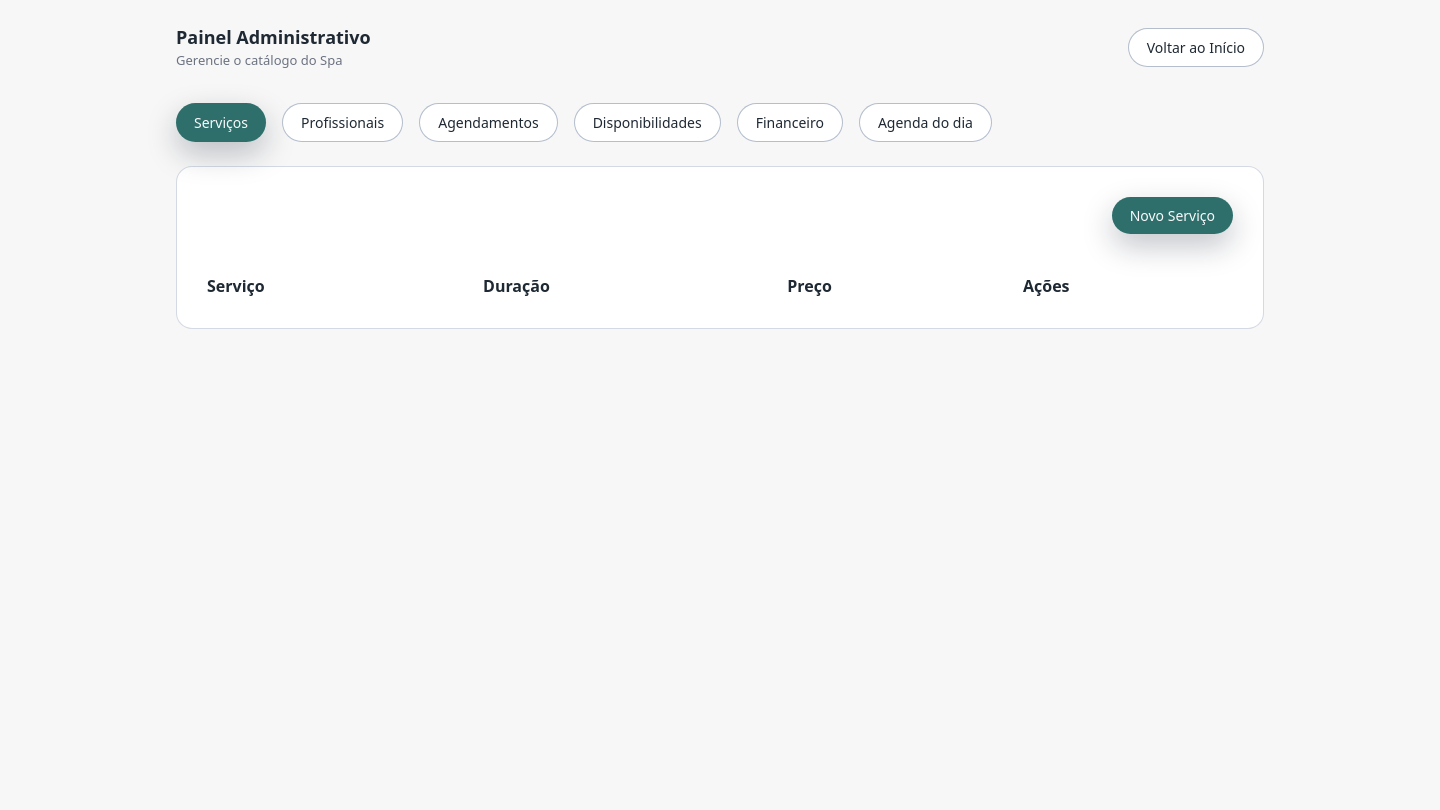
Test: blocks_form_stays_open_on_422 › blocks_form_stays_open_on_422
This screenshot has width=1440, height=810.
Click the button "Disponibilidades" at (647, 122), box [574,102,721,142]
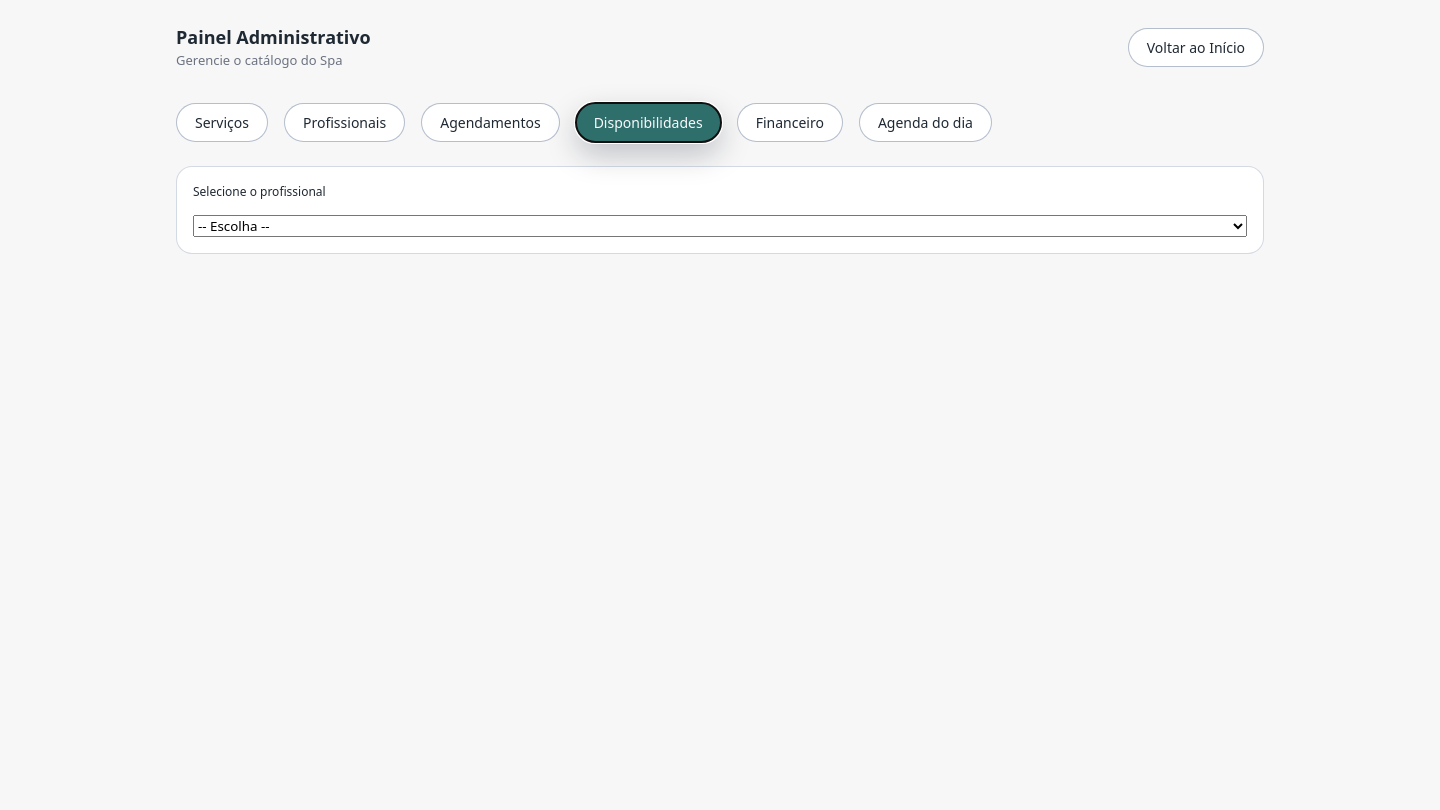
Select "Ana" in the dropdown at (720, 226), box [193,214,1247,236]
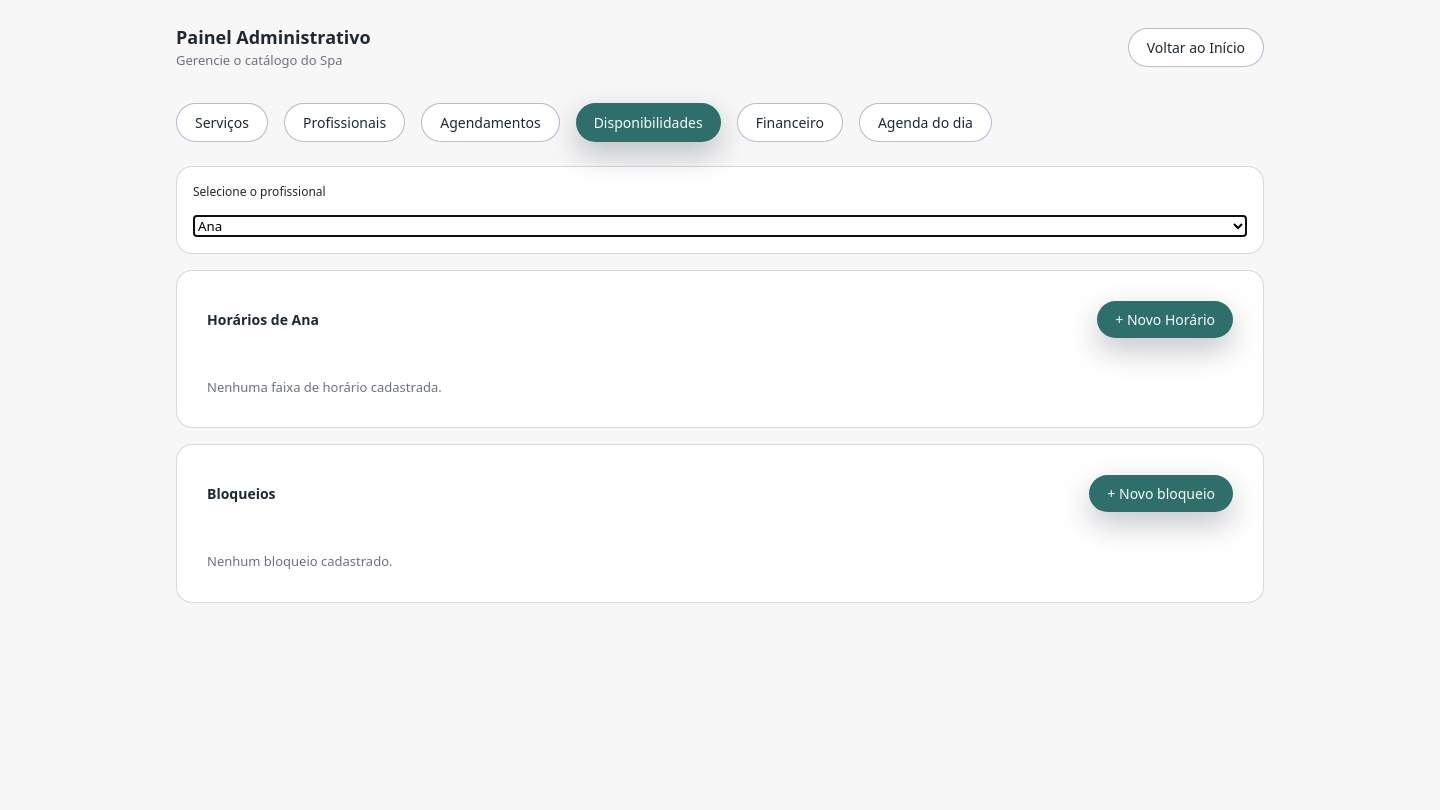
Click the button "+ Novo bloqueio" at (1161, 494), box [1089,475,1233,512]
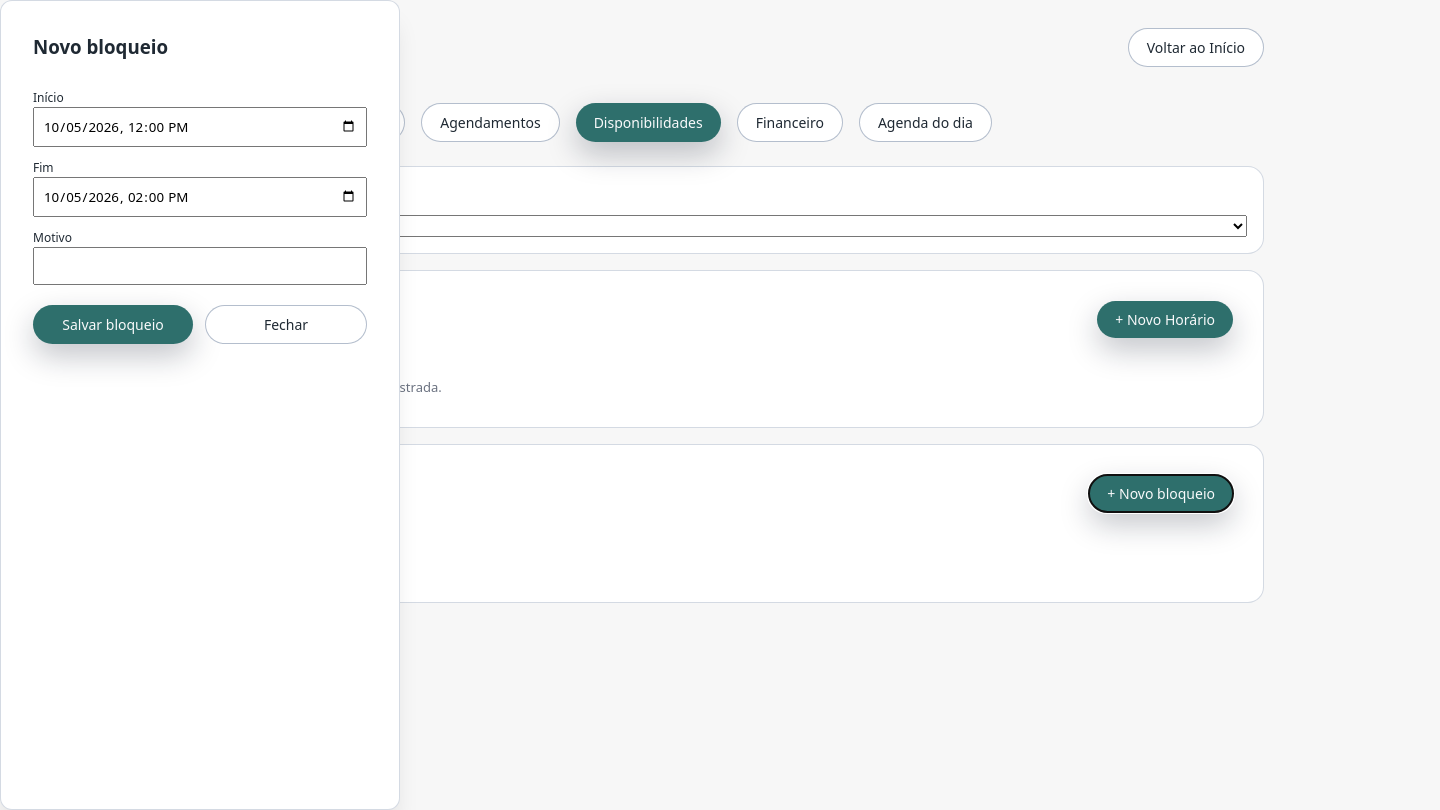
Type "Folga" into the field labelled "Motivo" at (200, 266), box [33,247,367,285]
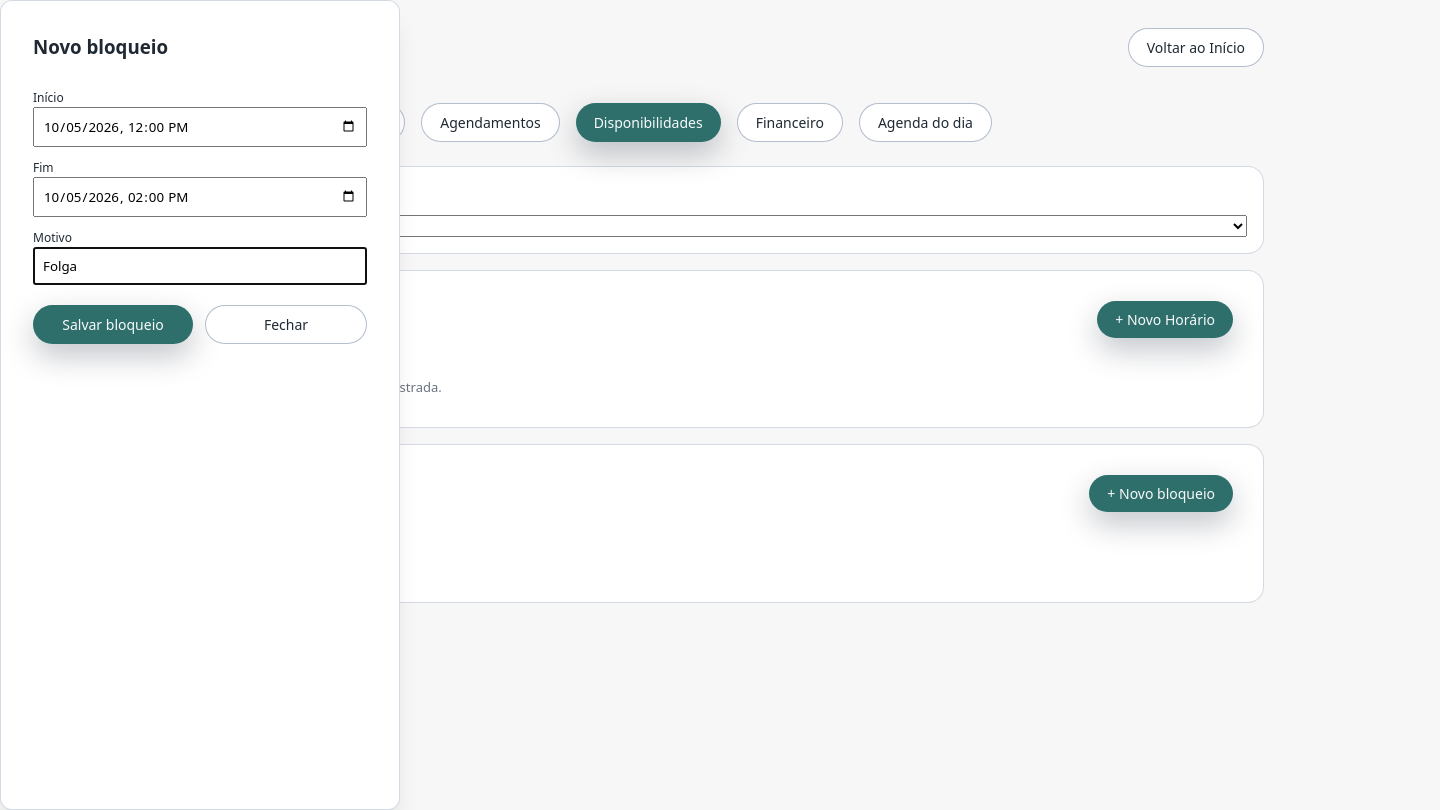
Click the button "Salvar bloqueio" at (113, 325), box [33,305,193,344]
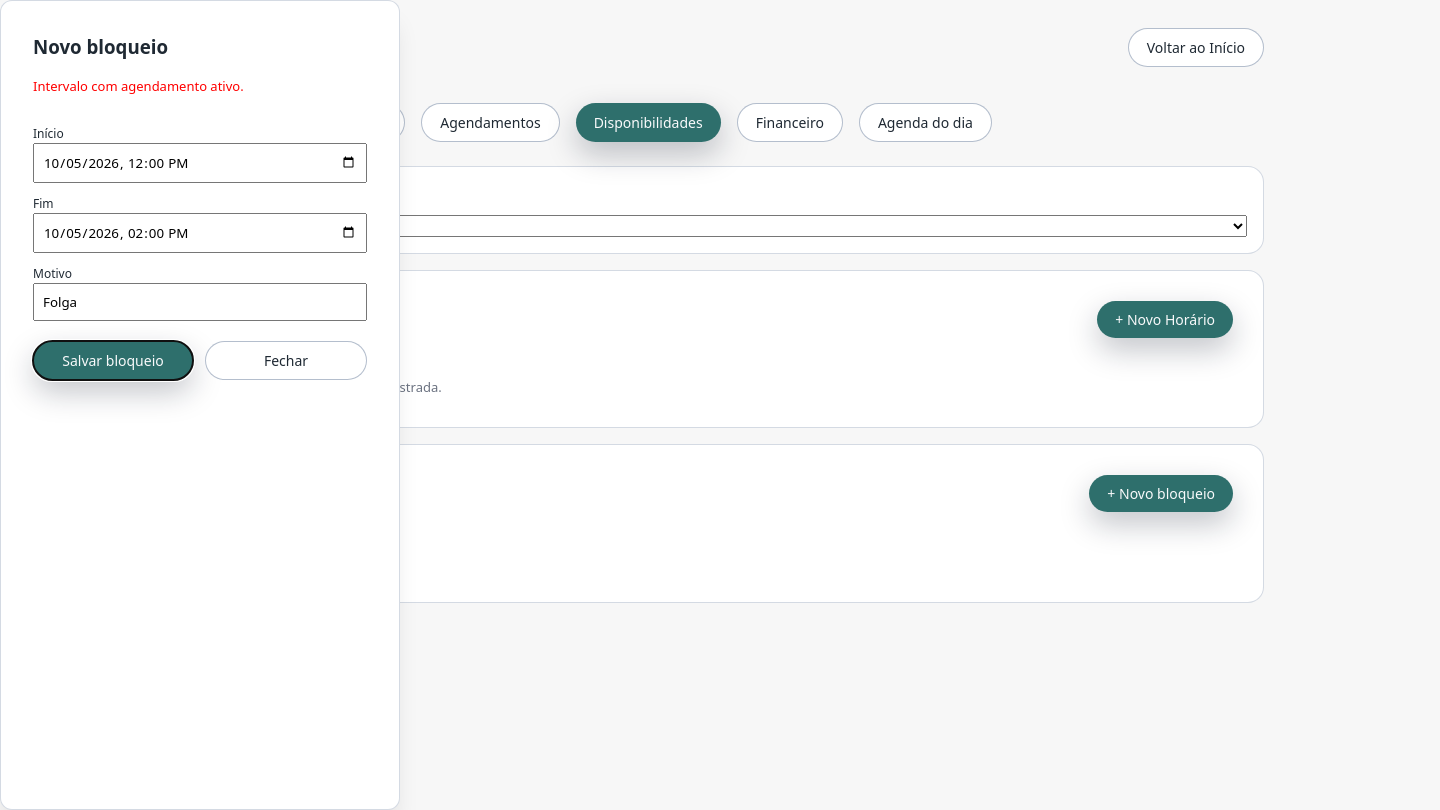
Expected: the heading "Novo bloqueio" is shown, [33,34,168,59]
Expected: the message reads "Intervalo com agendamento ativo.", [33,77,244,95]
